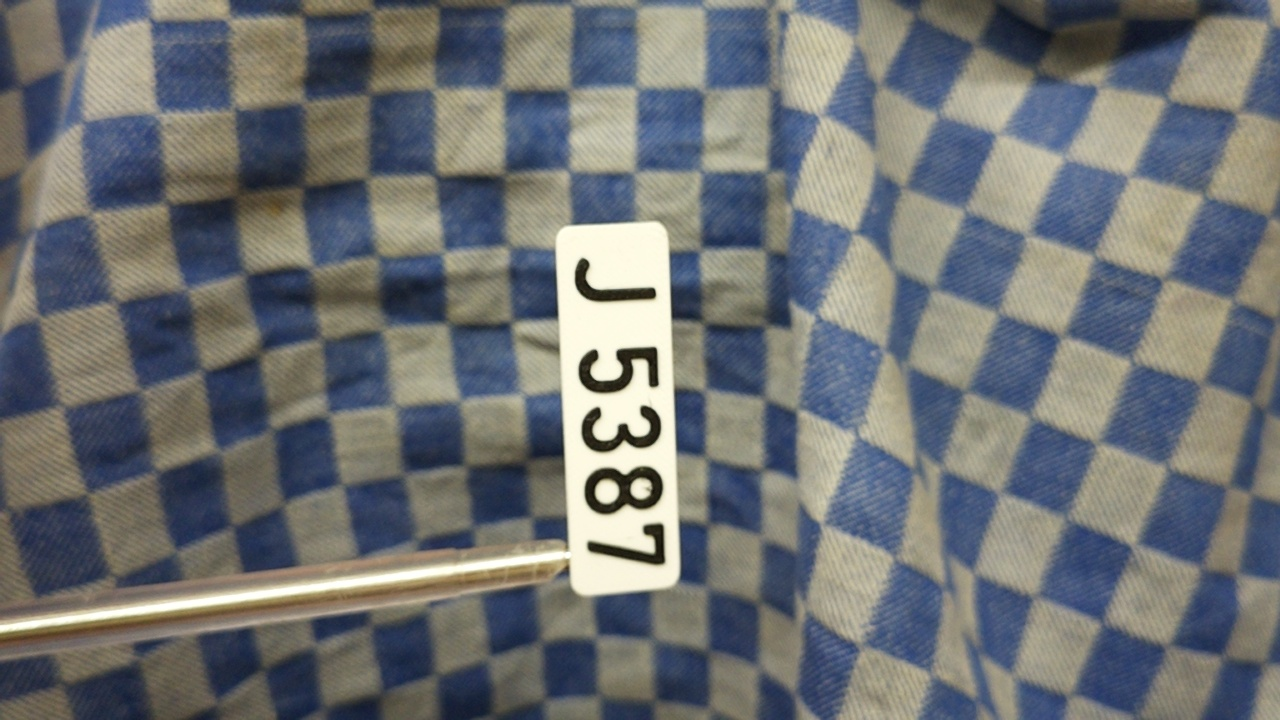license_plate: (551, 217, 684, 602)
